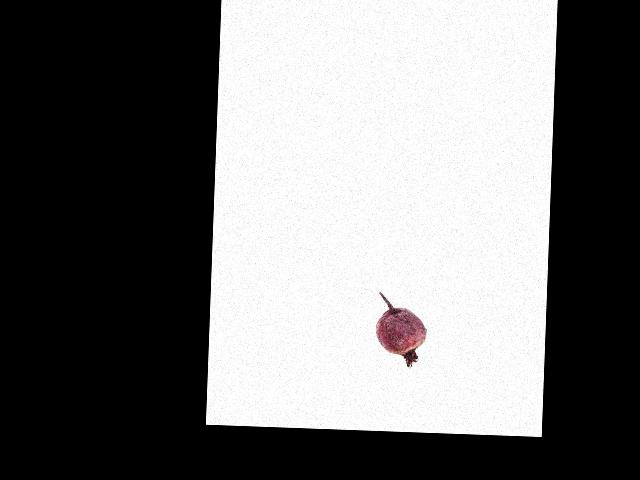beet: (374, 292, 427, 368)
